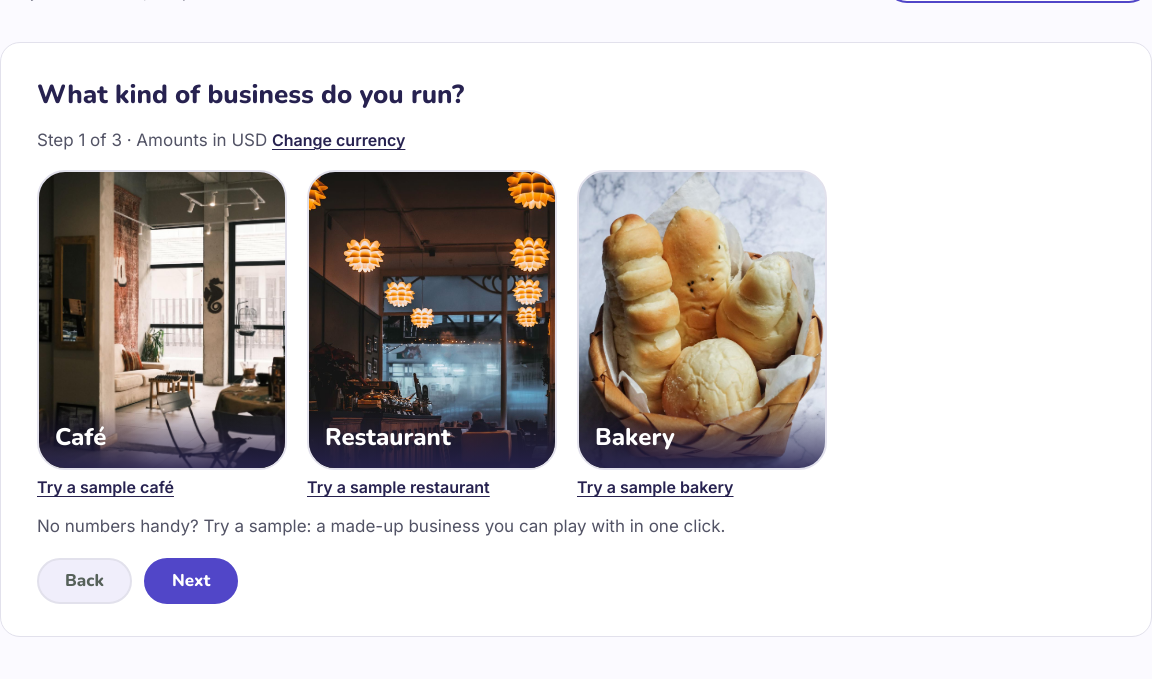
Test: start screen: the four questions › says staff are counted as full-time people
The image size is (1152, 679).
(page scrolled)
Click the button "Café".
click(162, 320)  # box [37,170,287,470]
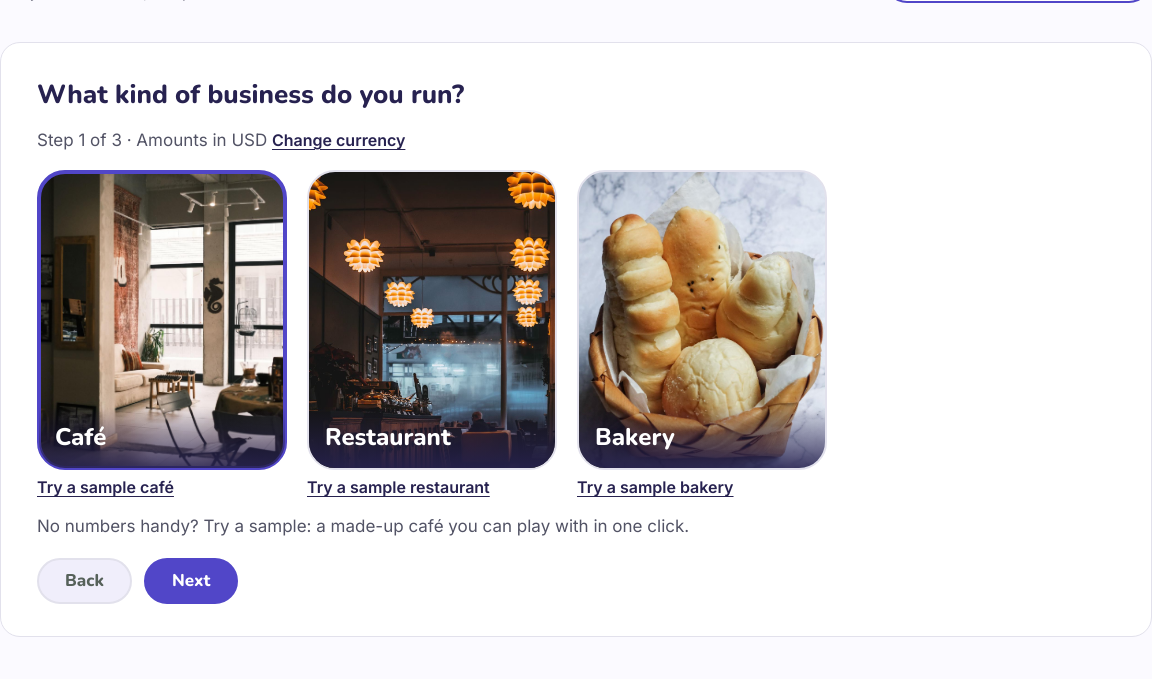
Click the button "Next".
click(191, 581)  # box [144,558,238,604]
(page scrolled)
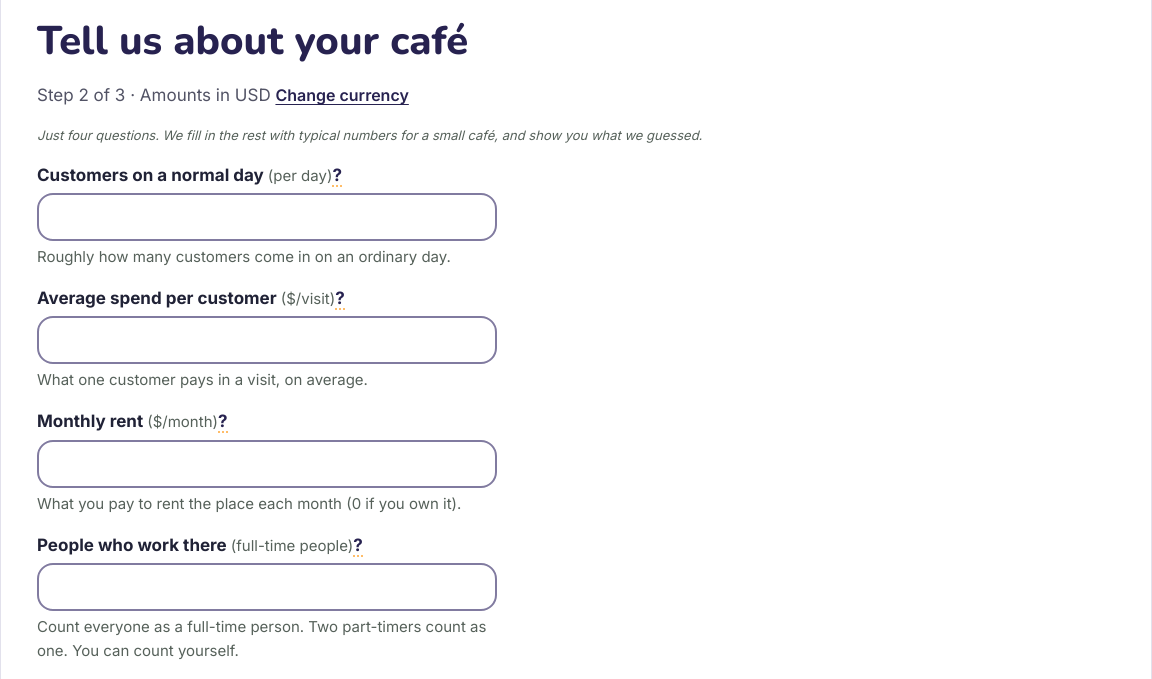
Check: the text "Two part-timers count as one" is shown, box [37,617,486,660]
